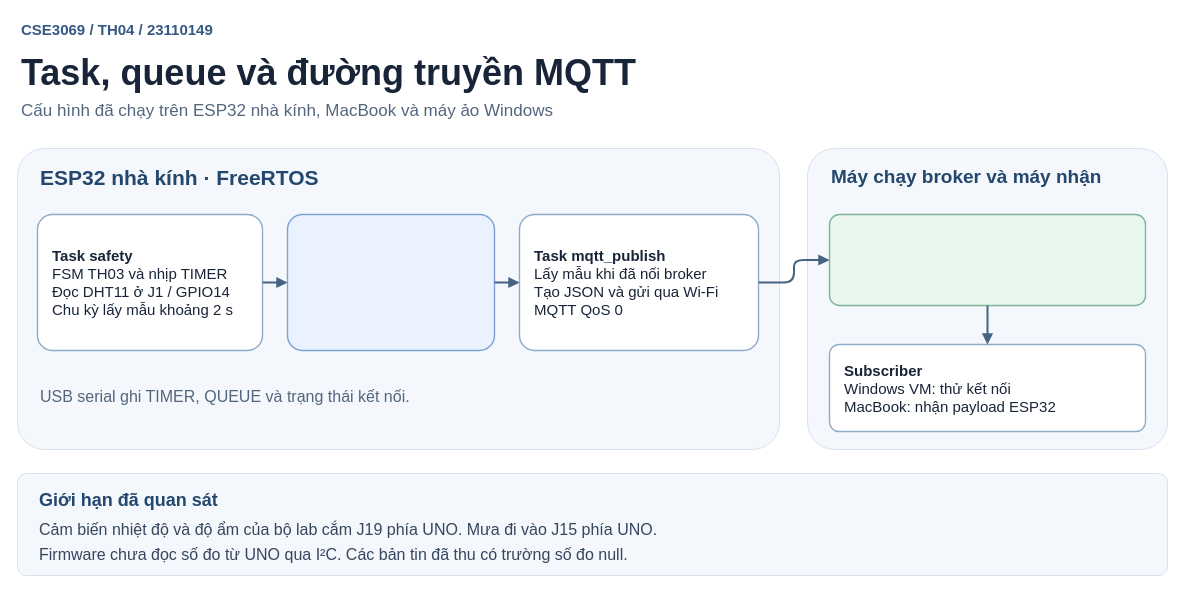
Image size: 1185x593. Some labels were removed from this diagram. Each missing label, with the box of its shape:
Mosquitto trên MacBook Docker Compose · TCP 1883 Topic 23110149/node01/telemetry: (828, 213, 1146, 306)
Queue telemetry Tối đa 10 mẫu Ghi với thời gian chờ 0 Đầy thì bỏ mẫu mới: (286, 213, 495, 351)
